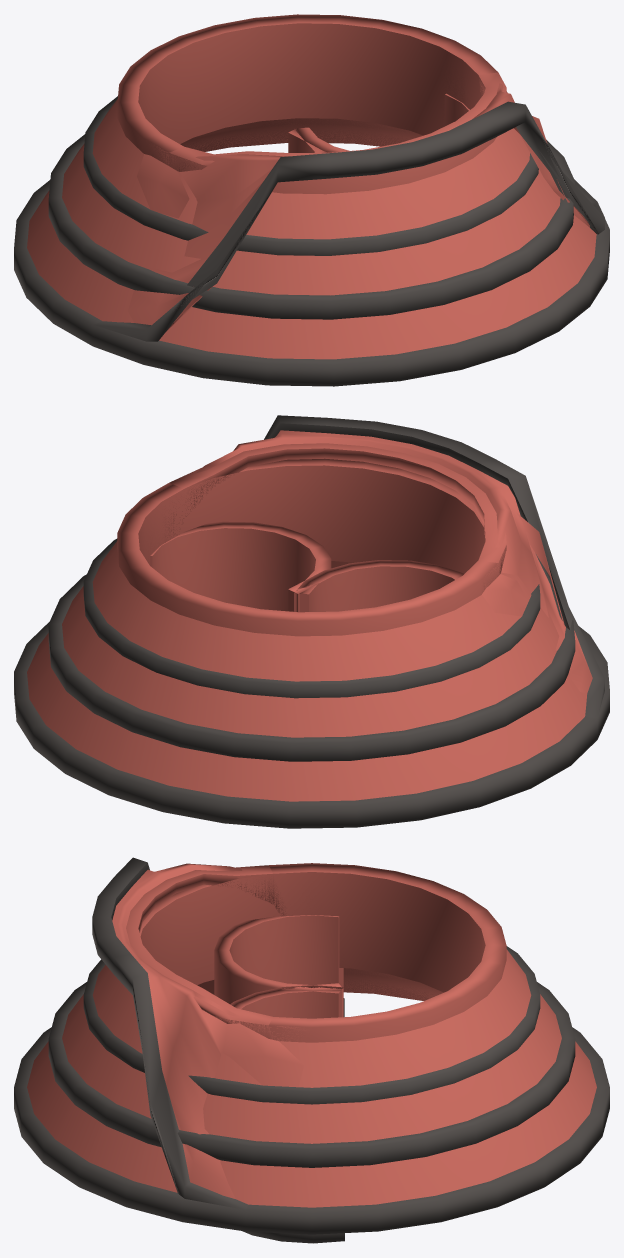
Rendered from belted_wraparound_skirt.glb.
The picture shows the model from 3 angles, top to bottom: view 1: azimuth 30°, elevation 25°; view 2: azimuth 150°, elevation 25°; view 3: azimuth 270°, elevation 25°; orthographic projection.
Visible parts, largest first — view 1: belted_wraparound_skirt_Body, belted_wraparound_skirt_Body_sit, belted_wraparound_skirt_LegR_sit; view 2: belted_wraparound_skirt_Body, belted_wraparound_skirt_Body_sit, belted_wraparound_skirt_LegR_sit, belted_wraparound_skirt_LegL_sit; view 3: belted_wraparound_skirt_Body, belted_wraparound_skirt_Body_sit, belted_wraparound_skirt_LegL_sit, belted_wraparound_skirt_LegR_sit.
Part boxes in pixels (x1,y1,x2,y2): belted_wraparound_skirt_Body: (14,14,609,386); belted_wraparound_skirt_Body_sit: (93,48,604,341); belted_wraparound_skirt_LegR_sit: (294,93,469,152); belted_wraparound_skirt_Body: (14,458,609,828); belted_wraparound_skirt_Body_sit: (145,415,604,718); belted_wraparound_skirt_LegR_sit: (150,521,331,612); belted_wraparound_skirt_LegL_sit: (294,560,463,612); belted_wraparound_skirt_Body: (14,863,609,1234); belted_wraparound_skirt_Body_sit: (92,857,443,1209); belted_wraparound_skirt_LegL_sit: (214,915,344,1017); belted_wraparound_skirt_LegR_sit: (230,985,344,1243).
Bounding box in the file's own units: 0.628 × 0.2847 × 0.628.
